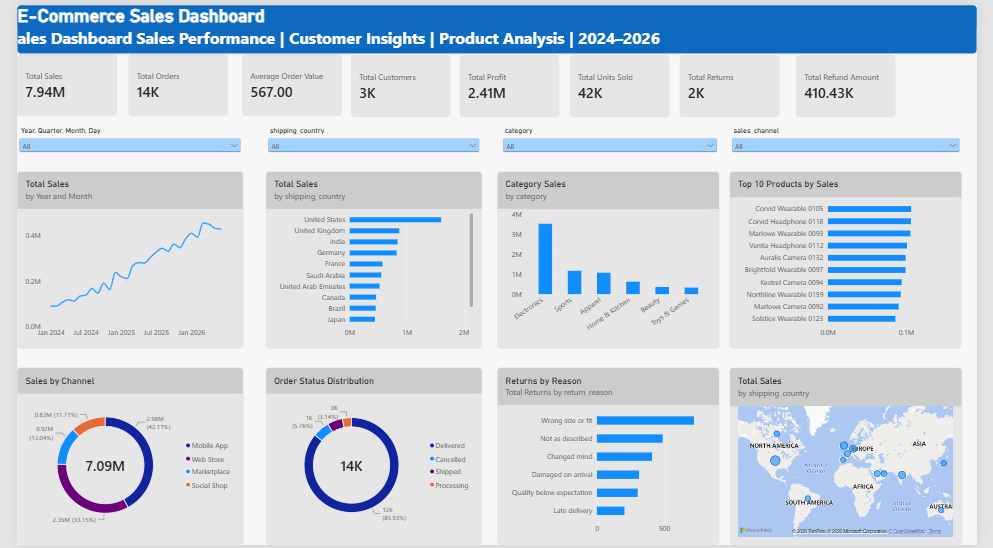

What the dashboard file says about the page in this screenshot:
{"tool":"powerbi","page":{"name":"Page 1","canvas":[1920,1080],"ordinal":0},"visuals":[{"type":"cardVisual","fields":{"Data":["customers.Total Sales"]},"box":[0,98.1,200.5,125.9],"z":0},{"type":"cardVisual","fields":{"Data":["customers.Total Orders"]},"box":[221.9,98.1,200.5,125.9],"z":1000},{"type":"cardVisual","fields":{"Data":["customers.Average Order Value"]},"box":[450.1,98.1,200.5,125.9],"z":2000},{"type":"cardVisual","fields":{"Data":["customers.Total Customers"]},"box":[667.7,100.3,200.5,125.9],"z":3000},{"type":"cardVisual","fields":{"Data":["customers.Total Profit"]},"box":[885.3,100.3,200.5,125.9],"z":4000},{"type":"cardVisual","fields":{"Data":["customers.Total Units Sold"]},"box":[1105.1,100.3,200.5,125.9],"z":5000},{"type":"cardVisual","fields":{"Data":["customers.Total Returns"]},"box":[1324.8,100.3,200.5,125.9],"z":6000},{"type":"cardVisual","fields":{"Data":["customers.Total Refund Amount"]},"box":[1557.3,100.3,200.5,125.9],"z":7000},{"type":"textbox","box":[0,302.9,200.5,59.7],"z":8000},{"type":"textbox","title":"E-Commerce Sales Dashboard","box":[0,0,1920,97.5],"z":9000},{"type":"lineChart","fields":{"Category":["orders.order_month.Variation.Date Hierarchy.Year","orders.order_month.Variation.Date Hierarchy.Month"],"Y":["customers.Total Sales"]},"box":[0,332.5,452.5,355],"z":10000},{"type":"clusteredBarChart","fields":{"Category":["orders.shipping_country"],"Y":["customers.Total Sales"]},"box":[497.5,332.5,432.5,355],"z":11000},{"type":"clusteredColumnChart","fields":{"Category":["products.category"],"Y":["customers.Category Sales"]},"box":[960,332.5,445,355],"z":12000},{"type":"clusteredBarChart","title":"Top 10 Products by Sales","fields":{"Category":["products.product_name"],"Y":["customers.Category Sales"]},"box":[1425,332.5,465,355],"z":13000},{"type":"donutChart","title":"Sales by Channel","fields":{"Category":["orders.sales_channel"],"Y":["customers.Category Sales"]},"box":[0,725,452.5,355],"z":14000},{"type":"donutChart","title":"Order Status Distribution","fields":{"Category":["orders.order_status"],"Y":["customers.Total Orders"]},"box":[497.5,725,432.5,355],"z":15000},{"type":"clusteredBarChart","title":"Returns by Reason","fields":{"Category":["returns.return_reason"],"Y":["customers.Total Returns"]},"box":[960,725,445,355],"z":16000},{"type":"slicer","fields":{"Values":["orders.order_month.Variation.Date Hierarchy.Year","orders.order_month.Variation.Date Hierarchy.Quarter","orders.order_month.Variation.Date Hierarchy.Month","orders.order_month.Variation.Date Hierarchy.Day"]},"box":[0,242.5,452.5,60],"z":17000},{"type":"slicer","fields":{"Values":["orders.shipping_country"]},"box":[497.5,242.5,432.5,75],"z":18000},{"type":"slicer","fields":{"Values":["products.category"]},"box":[967.5,242.5,437.5,60],"z":19000},{"type":"slicer","fields":{"Values":["orders.sales_channel"]},"box":[1425,242.5,465,60],"z":20000},{"type":"map","fields":{"Category":["orders.shipping_country"],"Size":["customers.Total Sales"]},"box":[1425,725,465,355],"z":20001}]}

Visuals, with their boxes in screenshot pixels (x1, y1, x2, y2), scaled from the page's 1920x1080 canvas onto the 993x548 screenshot:
cardVisual - customers.Total Sales: BBox(0, 50, 104, 114)
cardVisual - customers.Total Orders: BBox(115, 50, 218, 114)
cardVisual - customers.Average Order Value: BBox(233, 50, 336, 114)
cardVisual - customers.Total Customers: BBox(345, 51, 449, 115)
cardVisual - customers.Total Profit: BBox(458, 51, 562, 115)
cardVisual - customers.Total Units Sold: BBox(572, 51, 675, 115)
cardVisual - customers.Total Returns: BBox(685, 51, 789, 115)
cardVisual - customers.Total Refund Amount: BBox(805, 51, 909, 115)
textbox: BBox(0, 154, 104, 184)
"E-Commerce Sales Dashboard" textbox: BBox(0, 0, 992, 49)
lineChart - orders.order_month.Variation.Date Hierarchy.Year x orders.order_month.Variation.Date Hierarchy.Month: BBox(0, 169, 234, 349)
clusteredBarChart - orders.shipping_country x customers.Total Sales: BBox(257, 169, 481, 349)
clusteredColumnChart - products.category x customers.Category Sales: BBox(496, 169, 727, 349)
"Top 10 Products by Sales" clusteredBarChart: BBox(737, 169, 977, 349)
"Sales by Channel" donutChart: BBox(0, 368, 234, 547)
"Order Status Distribution" donutChart: BBox(257, 368, 481, 547)
"Returns by Reason" clusteredBarChart: BBox(496, 368, 727, 547)
slicer - orders.order_month.Variation.Date Hierarchy.Year x orders.order_month.Variation.Date Hierarchy.Quarter: BBox(0, 123, 234, 153)
slicer - orders.shipping_country: BBox(257, 123, 481, 161)
slicer - products.category: BBox(500, 123, 727, 153)
slicer - orders.sales_channel: BBox(737, 123, 977, 153)
map - orders.shipping_country x customers.Total Sales: BBox(737, 368, 977, 547)
